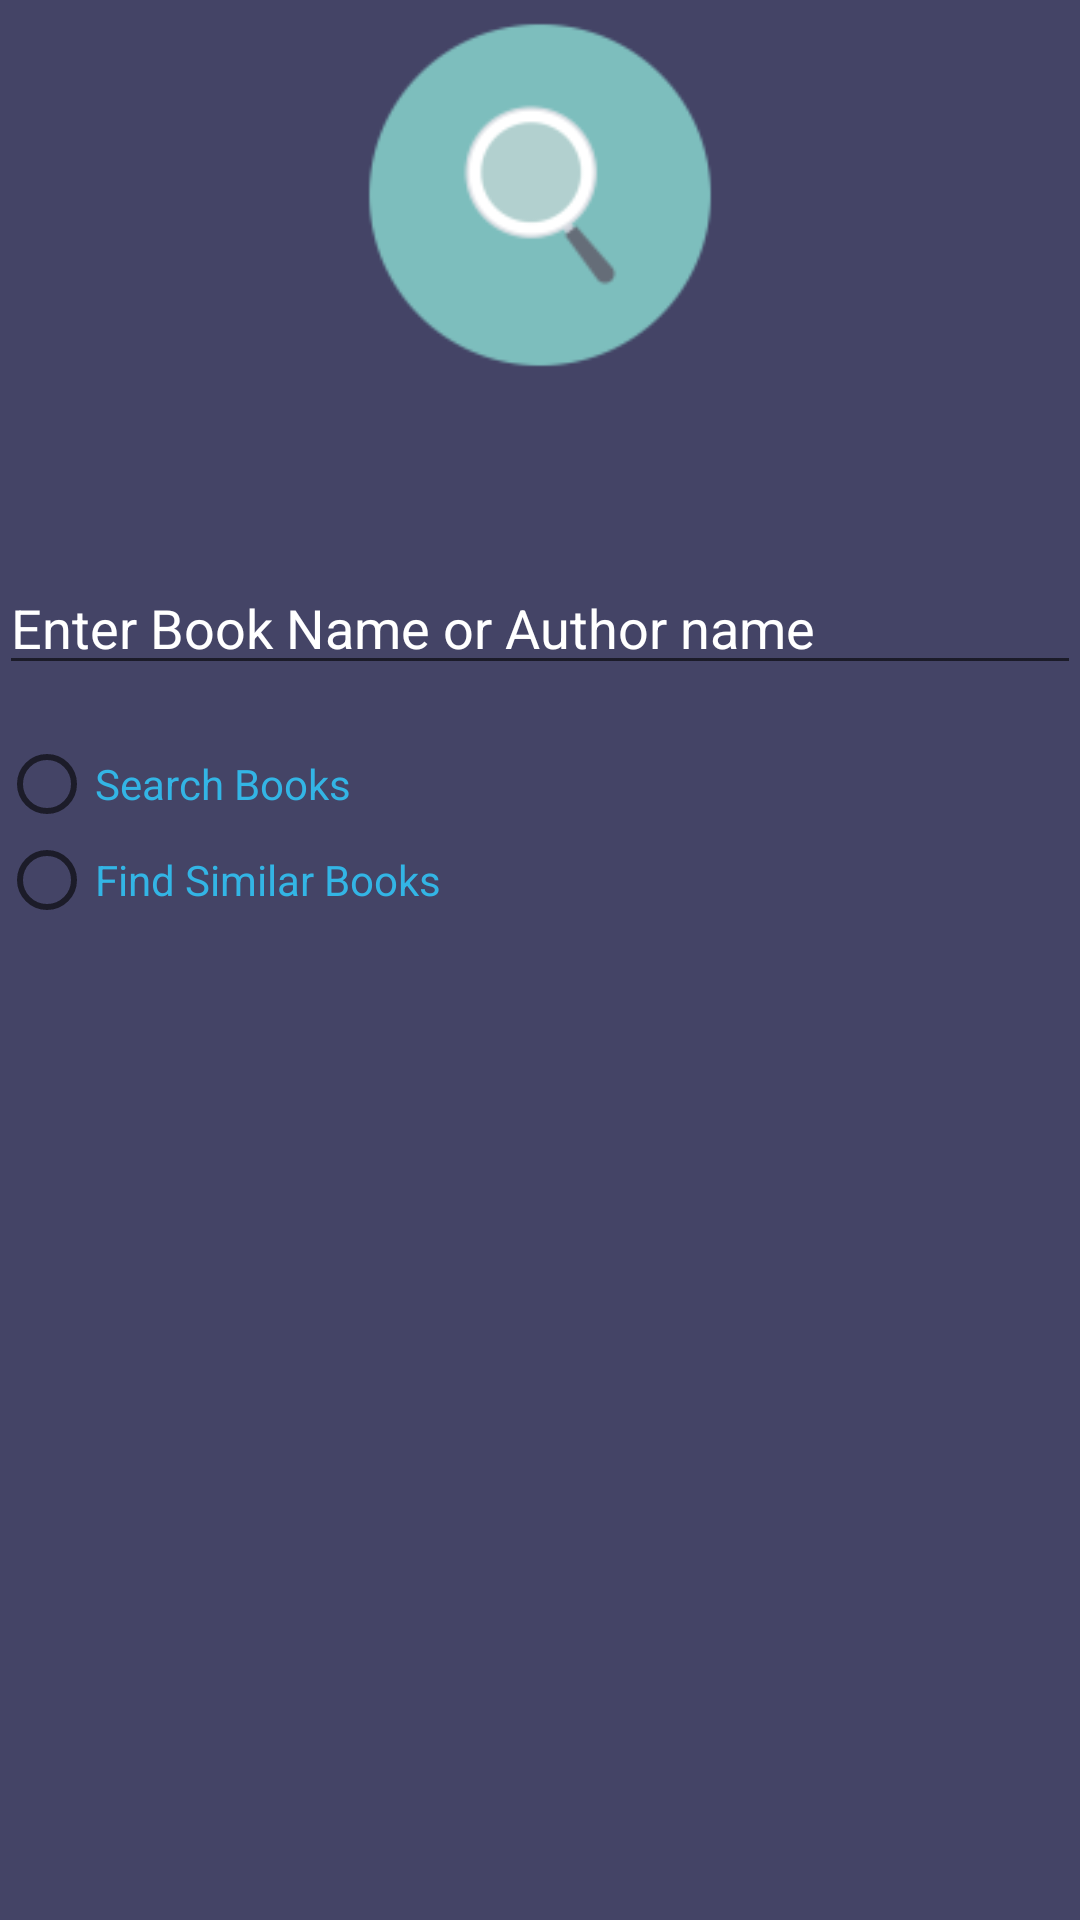

Named icons in this screenshot (1080 × 1920) and their centers, (x,y):
search: (540,195)
